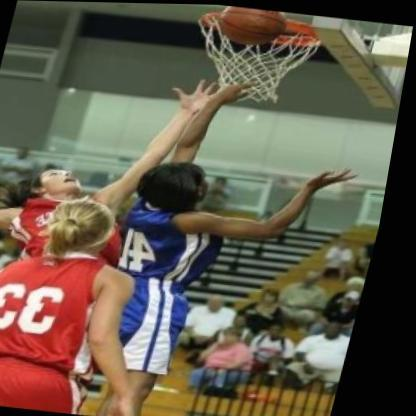basketball: (207, 4, 298, 51)
